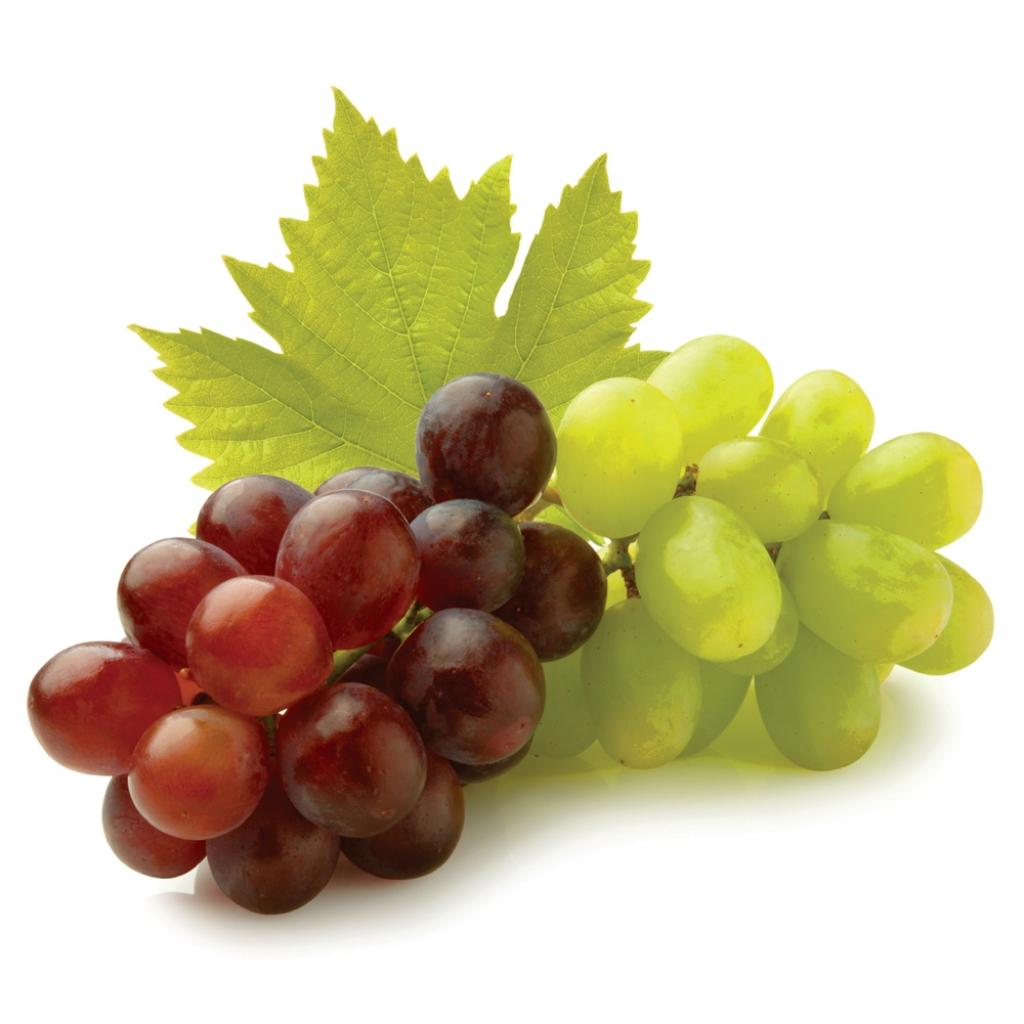grape: (27, 335, 991, 912)
